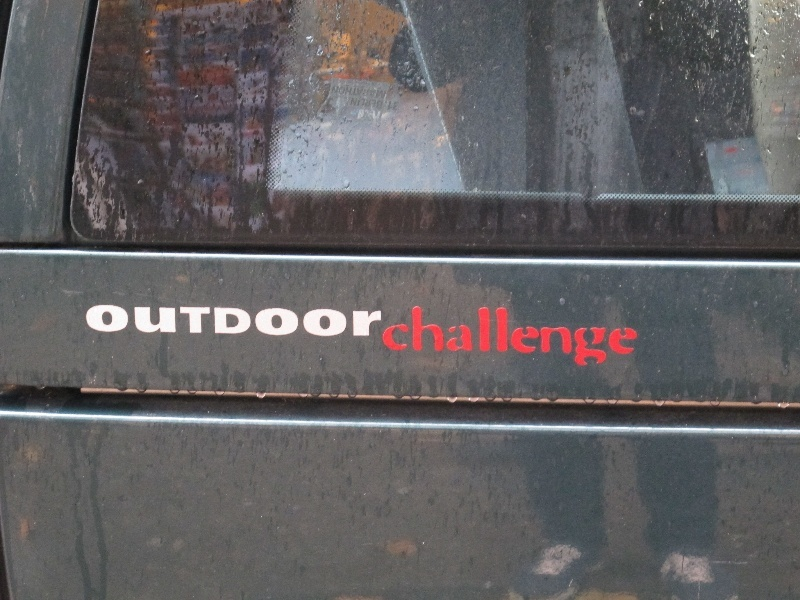text: (385, 306, 400, 374), (401, 306, 416, 374), (417, 306, 432, 374), (433, 306, 448, 374), (449, 306, 464, 374), (465, 306, 480, 374), (481, 306, 496, 374), (497, 306, 512, 374), (513, 306, 528, 374), (529, 306, 544, 374), (545, 306, 560, 374), (561, 306, 576, 374), (577, 306, 592, 374), (593, 306, 608, 374), (609, 306, 624, 374), (625, 306, 640, 374), (97, 304, 112, 340), (113, 304, 128, 340), (129, 304, 144, 340), (145, 304, 160, 340), (161, 304, 176, 340), (177, 304, 192, 340), (193, 304, 208, 340), (209, 304, 224, 340), (225, 304, 240, 340), (241, 304, 256, 340), (257, 304, 272, 340), (273, 304, 288, 340), (289, 304, 304, 340), (305, 304, 320, 340), (321, 304, 336, 340), (337, 304, 352, 340), (353, 304, 368, 340), (369, 304, 384, 340), (85, 304, 96, 340), (337, 86, 352, 100), (353, 86, 368, 100), (369, 86, 384, 100), (353, 98, 368, 109), (369, 98, 384, 109), (389, 101, 400, 111), (641, 306, 642, 374), (332, 86, 336, 100), (385, 86, 386, 100)
